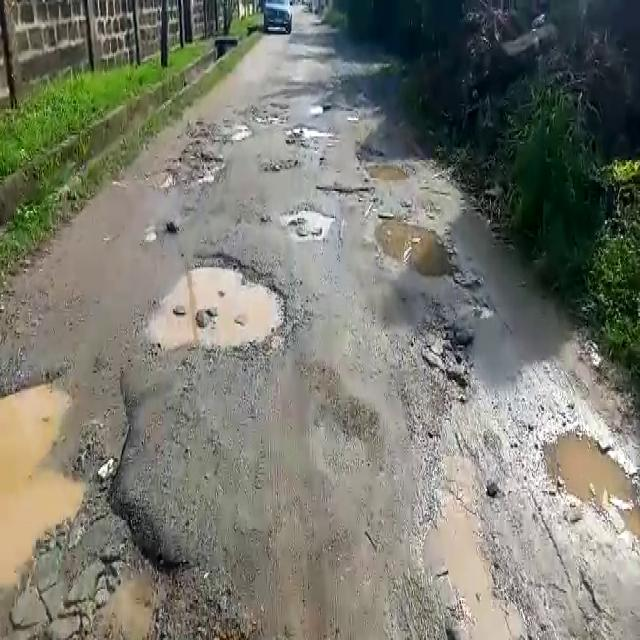Pothole: (0, 348, 186, 640), (146, 253, 293, 354), (539, 426, 637, 516), (374, 212, 458, 276), (414, 320, 470, 397), (158, 146, 225, 189), (280, 206, 331, 239), (314, 181, 378, 199), (361, 160, 410, 181), (286, 120, 336, 140), (258, 155, 302, 173)
